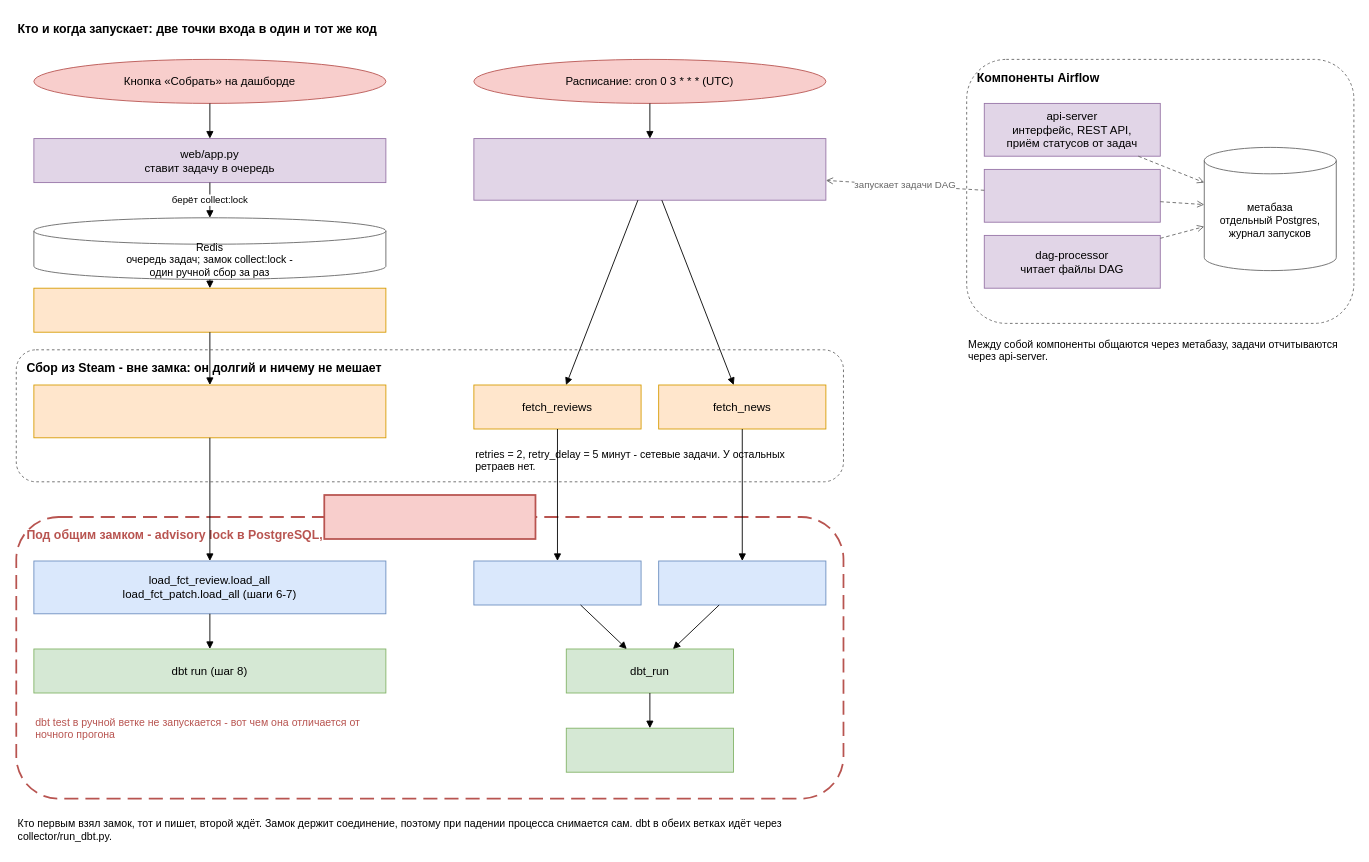
Some shapes in this 1369 by 862 pixel diagram are drawn without their labels. Here are the shapes that lost their labels. From the top down, the centre of each, then its label:
At point (649, 169): "Airflow: DAG steam_daily max_active_runs = 1 - два прогона не наложатся".
At point (1071, 195): "scheduler планирует; при LocalExecutor сам запускает задачи".
At point (209, 309): "Celery worker: collect_game(app_id, mode) - одна игра".
At point (209, 411): "сбор из Steam, шаги 1-5: appdetails, dim_game, новости, отзывы".
At point (429, 516): "замок ядра: pg_advisory_lock(383874548)".
At point (557, 582): "load_fct_review".
At point (742, 582): "load_fct_patch".
At point (649, 749): "dbt_test".
